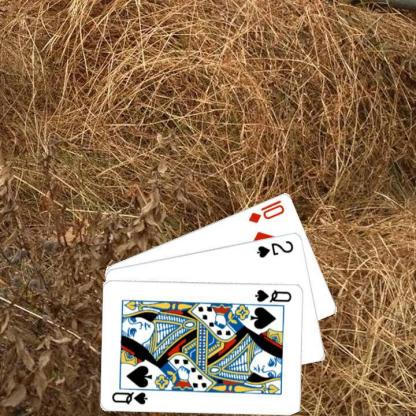10D: (246, 197, 286, 224)
2S: (254, 237, 295, 259)
QS: (252, 286, 293, 304), (110, 390, 149, 406)
